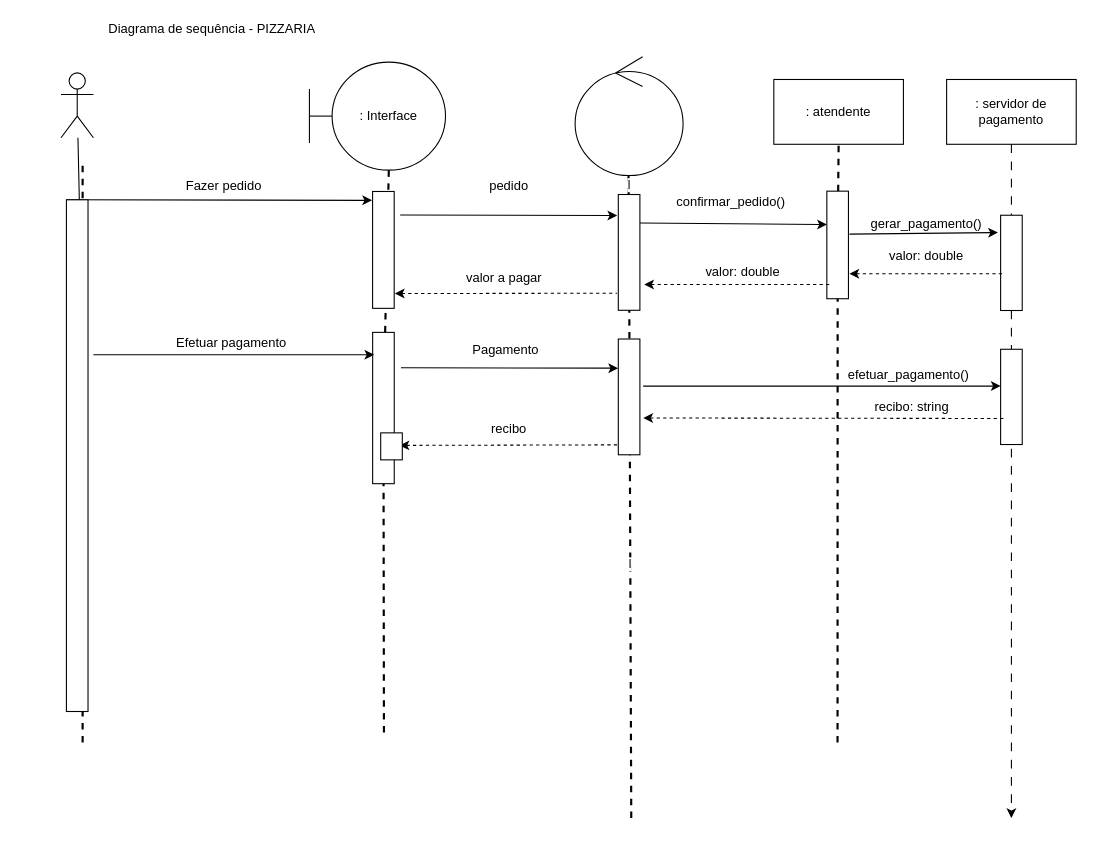
This 1096x846 diagram has some shape labels left out. Each missing label, with the centre of its shape:
:Controlador: [628,116]
Usuário: [76,105]
